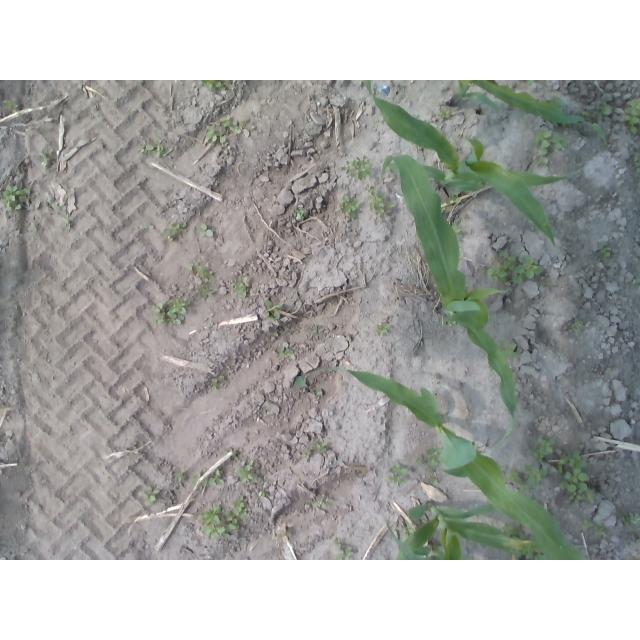Maize: (328, 364, 589, 561), (379, 152, 518, 449), (361, 80, 584, 246), (447, 80, 609, 142), (386, 497, 535, 560)
Weeds: (557, 450, 596, 503), (486, 250, 543, 284), (500, 522, 548, 560), (198, 505, 238, 540), (508, 464, 549, 492), (531, 129, 571, 154), (367, 186, 394, 219), (414, 444, 442, 474), (342, 156, 374, 180), (2, 185, 31, 211), (579, 100, 610, 122), (136, 138, 168, 159), (529, 438, 555, 463), (624, 96, 640, 136), (335, 195, 360, 220), (166, 300, 190, 325), (294, 376, 322, 397), (384, 463, 409, 486), (494, 339, 518, 361), (162, 221, 186, 241), (222, 115, 247, 134), (235, 462, 257, 483), (332, 538, 353, 560), (205, 124, 228, 144), (187, 261, 213, 277), (199, 80, 233, 92), (263, 300, 284, 319), (195, 277, 213, 299), (446, 219, 463, 241), (620, 512, 640, 530), (596, 242, 613, 263), (233, 495, 248, 518), (142, 487, 160, 506), (235, 277, 250, 299), (446, 191, 463, 210), (151, 304, 166, 325), (208, 467, 224, 485), (570, 317, 586, 335), (547, 96, 568, 109), (39, 151, 54, 169), (395, 525, 413, 540), (314, 497, 334, 509), (210, 375, 226, 390), (276, 345, 293, 359), (192, 473, 205, 491), (199, 223, 215, 237), (4, 99, 18, 113), (295, 207, 308, 222), (594, 523, 607, 537), (436, 108, 452, 119), (173, 470, 187, 482), (312, 441, 326, 453), (376, 324, 388, 337), (534, 157, 549, 167), (223, 452, 239, 461), (582, 519, 594, 530), (634, 152, 640, 173), (301, 450, 311, 459), (429, 476, 440, 484), (447, 319, 458, 326), (544, 277, 552, 286), (258, 491, 266, 498), (64, 218, 71, 226), (439, 206, 445, 215), (526, 80, 535, 85), (628, 556, 636, 560), (635, 278, 640, 284), (636, 539, 640, 544)
